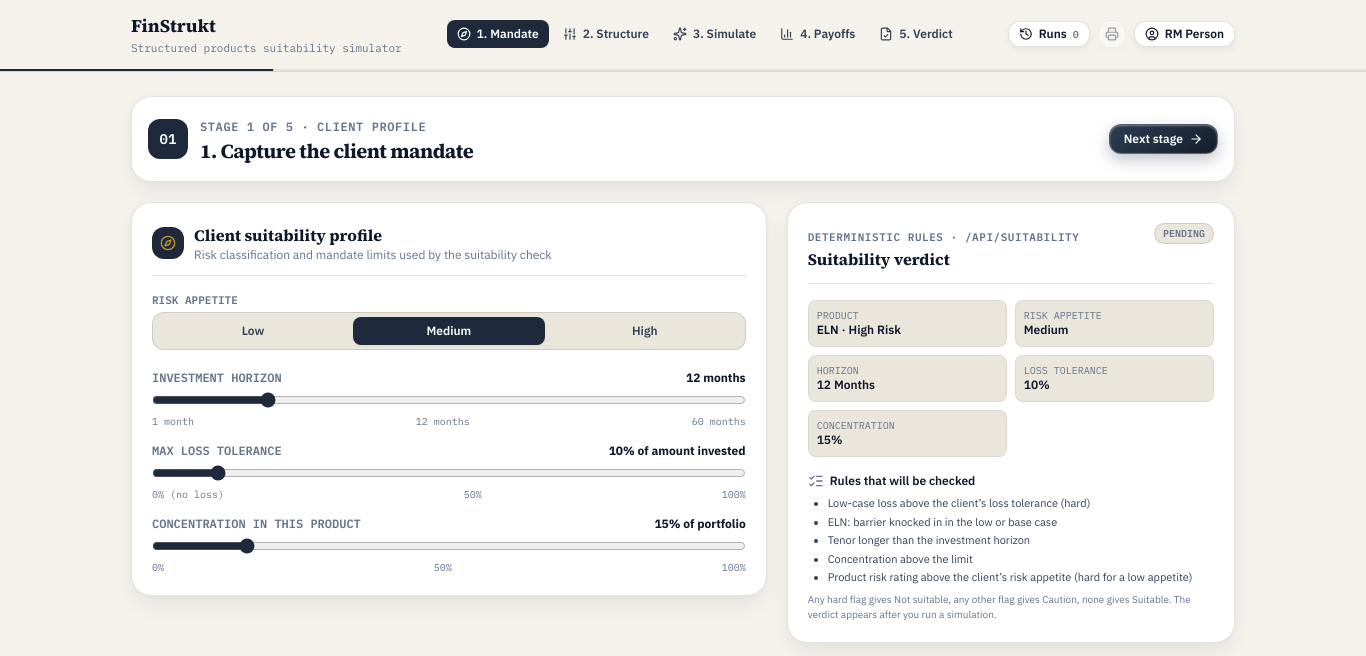
Test: session restore and sign out › signs out from the account menu
The width and height of the screenshot is (1366, 656).
Click the button with aria-label "Account menu for RM Person" at x=1184, y=34, box top-left (1134, 21), bottom-right (1235, 47)
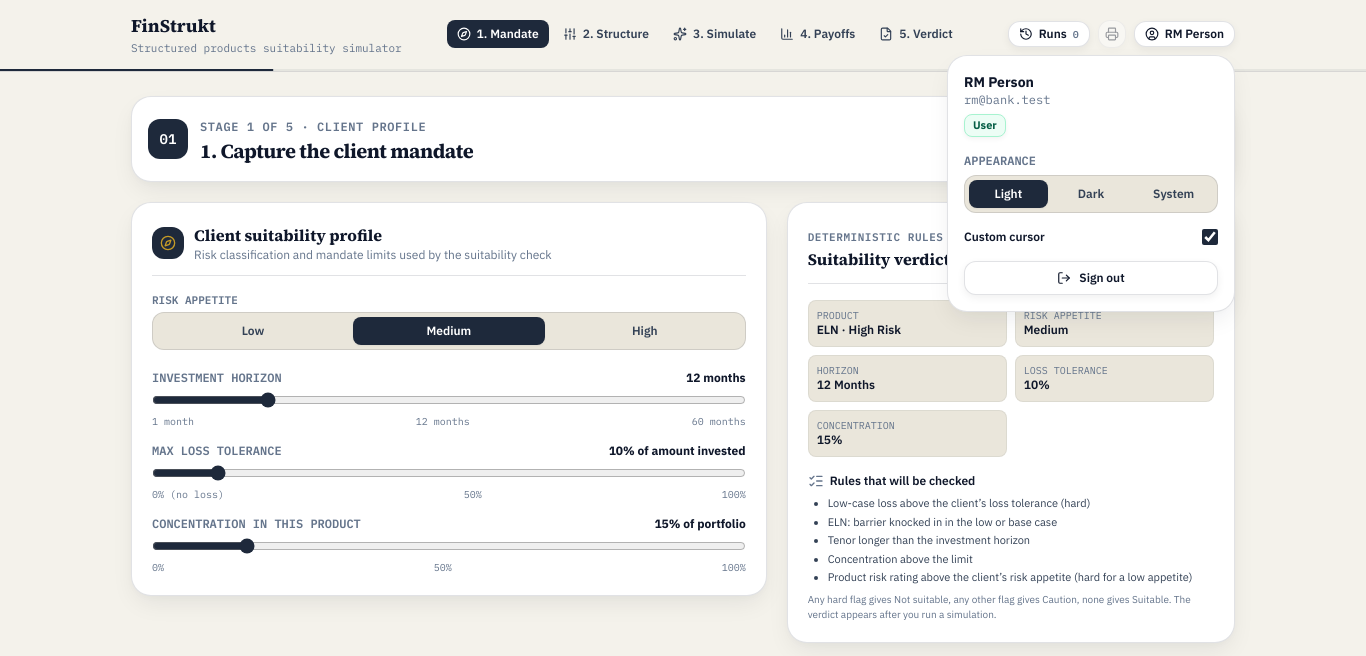
Click the button "Sign out" at x=1091, y=278, box top-left (964, 261), bottom-right (1218, 295)
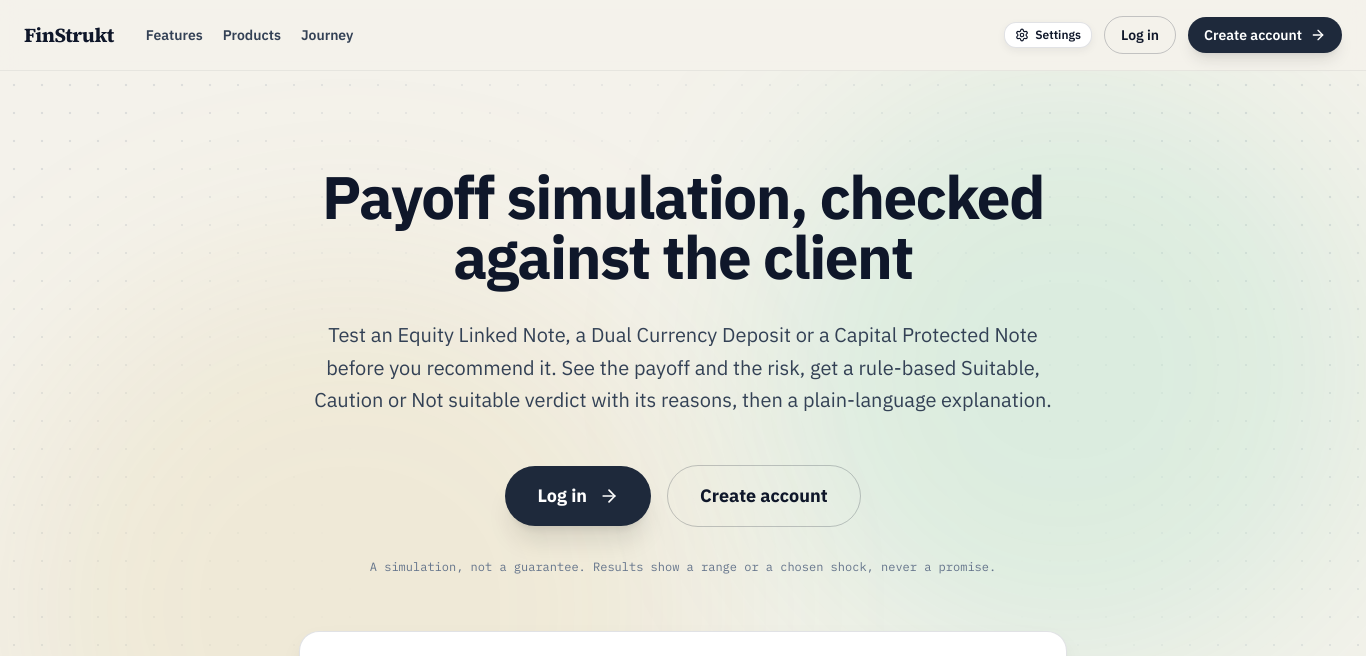
Now the button "Log in" in the row of "Products" is shown, box top-left (1104, 16), bottom-right (1176, 54)
